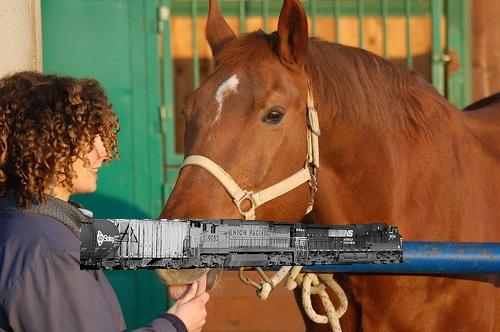tampered: (81, 220, 403, 270)
